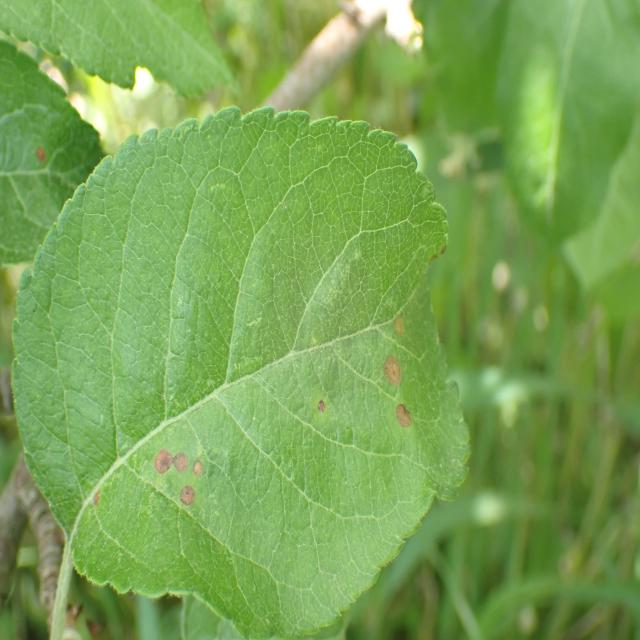Black Rot: (154, 439, 218, 527), (305, 366, 345, 444), (381, 286, 418, 357), (371, 356, 418, 393), (390, 402, 415, 448)
